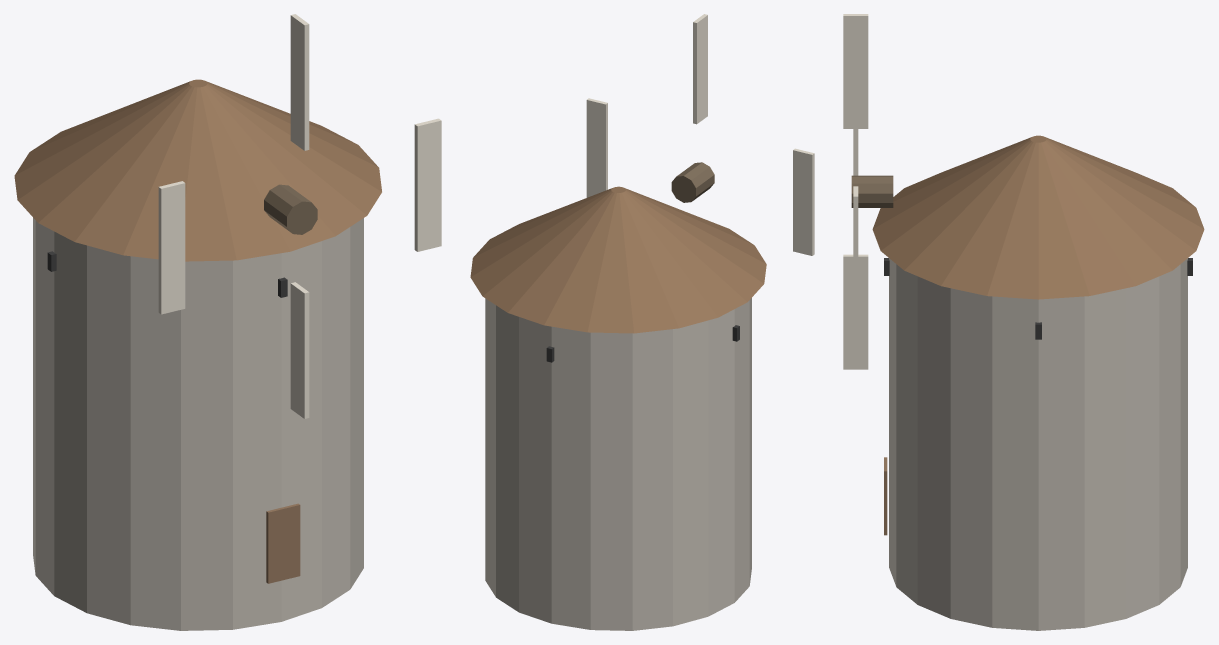
The model's file is VillageMill.fbx.
3 views of the same model, side by side, from view 1: azimuth 30°, elevation 25°; view 2: azimuth 150°, elevation 25°; view 3: azimuth 270°, elevation 25° (orthographic). The views are drawn at different scales.
Parts seen in each view (by area): view 1: VillageMill; view 2: VillageMill; view 3: VillageMill.
Boxes of the visible parts, bbox=[...] form: VillageMill: bbox=[14, 14, 441, 630]; VillageMill: bbox=[470, 14, 814, 630]; VillageMill: bbox=[843, 14, 1204, 630].
Size of the model in its own units: 400 by 735 by 435.
